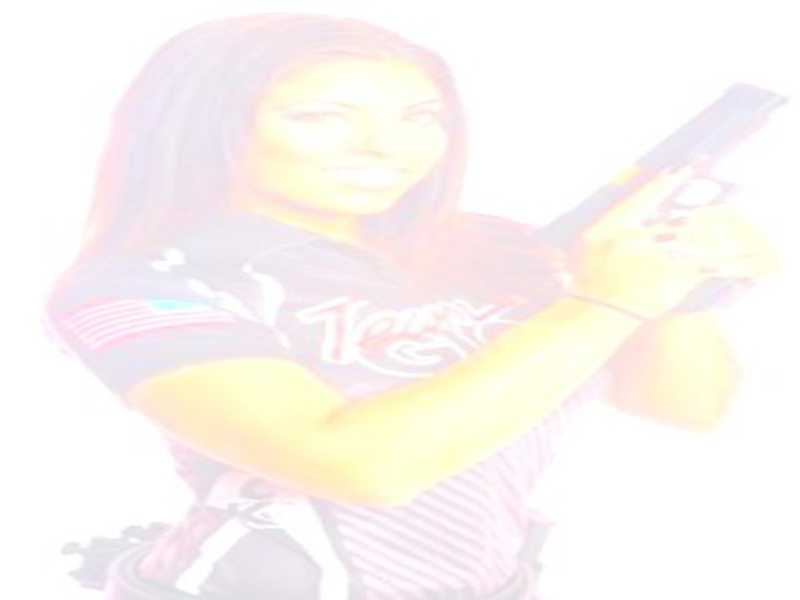gun: (521, 76, 797, 317)
